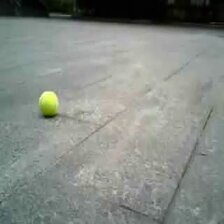tennis: (39, 91, 58, 112)
